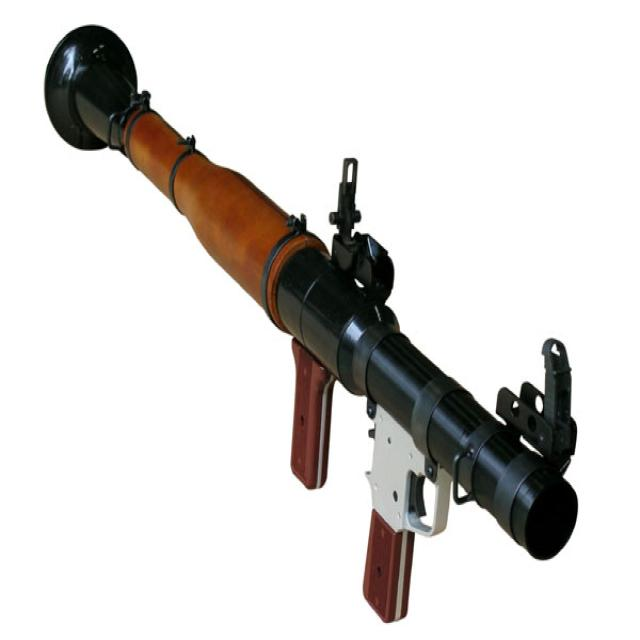bazooka: (24, 1, 633, 627)
